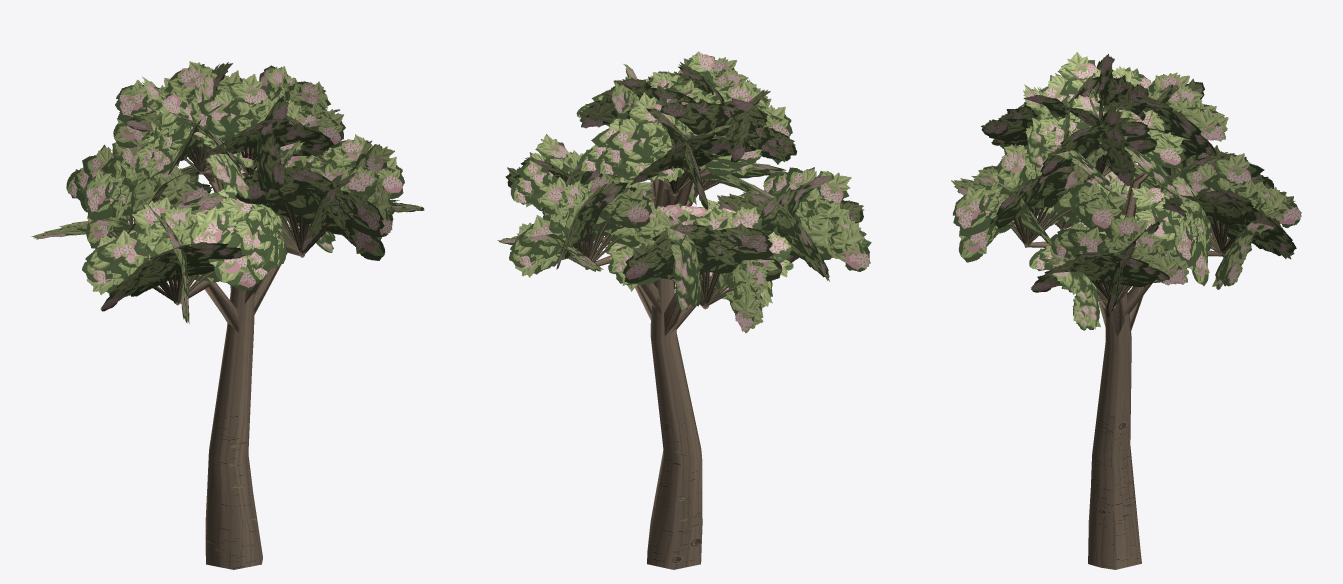
Rendered from meadow-blossom-near.glb.
3 views of the same model, side by side, from view 1: azimuth 30°, elevation 25°; view 2: azimuth 150°, elevation 25°; view 3: azimuth 270°, elevation 25° (orthographic). The views are drawn at different scales.
Visible parts, largest first — view 1: Meadow blossom near v3 runtime; view 2: Meadow blossom near v3 runtime; view 3: Meadow blossom near v3 runtime.
Part boxes in pixels (x1,y1,x2,y2): Meadow blossom near v3 runtime: [31, 61, 424, 569]; Meadow blossom near v3 runtime: [497, 51, 871, 569]; Meadow blossom near v3 runtime: [951, 52, 1301, 569].
Bounding box in the file's own units: 5.42 × 7.28 × 5.14.
Materials: 1 (1 with a texture image).
